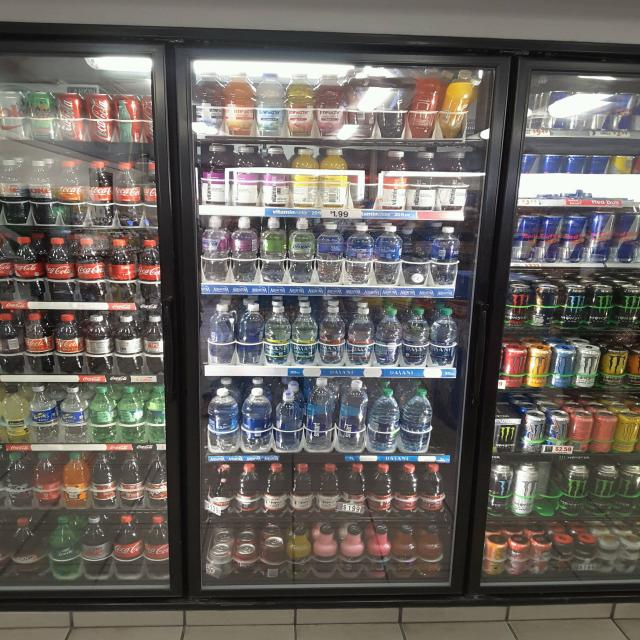unorganised: (84, 315, 141, 373), (211, 303, 264, 364), (49, 514, 82, 577), (572, 411, 616, 456), (106, 240, 136, 301), (272, 390, 302, 450), (348, 151, 375, 207), (403, 226, 426, 287), (1, 312, 23, 373), (535, 282, 558, 326), (540, 461, 552, 507)
